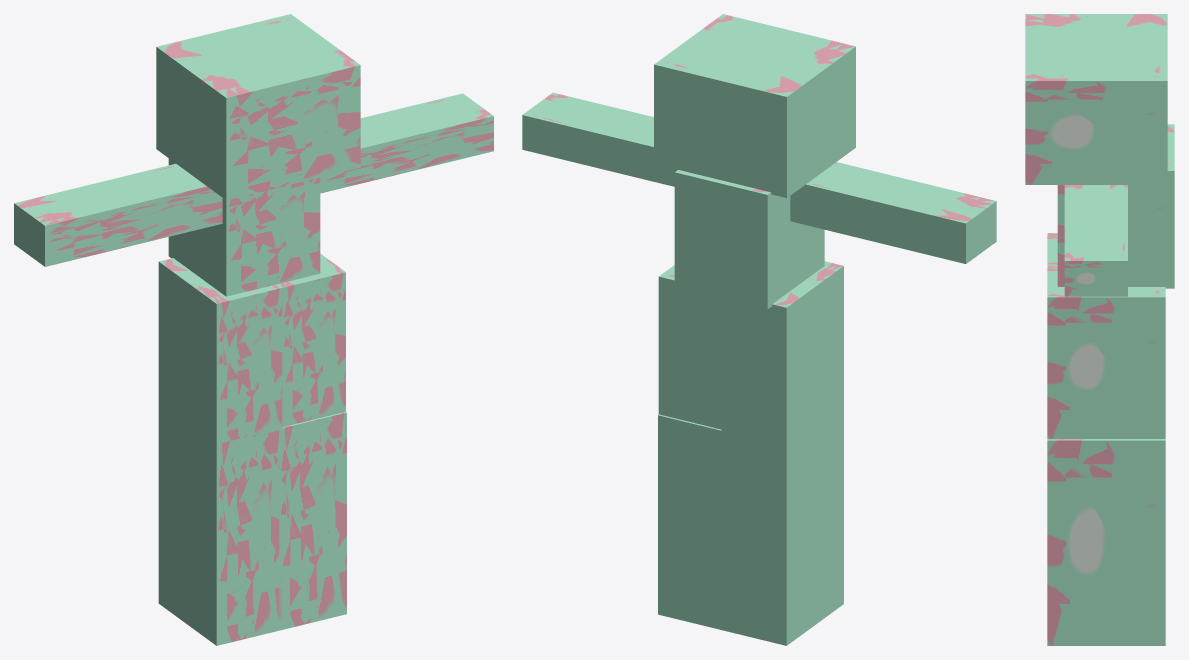
File: woman.obj
The picture shows the model from 3 angles, left to right: view 1: azimuth 30°, elevation 25°; view 2: azimuth 150°, elevation 25°; view 3: azimuth 270°, elevation 25°; orthographic projection. The views are drawn at different scales.
Visible parts, largest first — view 1: !p_b1_$bb_head, !p_leg2_$bb_leg2.1, !p_b1_$bb_leg2, !p_leg1_$bb_leg1.1, !p_b1_$bb_arm2, $bb_b1, !p_b1_$bb_leg1, !p_b1_$bb_arm1; view 2: !p_b1_$bb_head, !p_leg2_$bb_leg2.1, !p_b1_$bb_leg2, $bb_b1, !p_b1_$bb_arm2, !p_leg1_$bb_leg1.1, !p_b1_$bb_leg1, !p_b1_$bb_arm1; view 3: !p_leg1_$bb_leg1.1, !p_b1_$bb_head, !p_b1_$bb_leg1, !p_b1_$bb_arm1, $bb_b1, !p_b1_$bb_leg2.
Part boxes in pixels (bbox=[...]): !p_b1_$bb_head: bbox=[156, 14, 360, 200]; !p_leg2_$bb_leg2.1: bbox=[158, 403, 282, 645]; !p_b1_$bb_leg2: bbox=[158, 258, 282, 444]; !p_leg1_$bb_leg1.1: bbox=[279, 411, 346, 630]; !p_b1_$bb_arm2: bbox=[14, 163, 222, 266]; $bb_b1: bbox=[168, 158, 320, 296]; !p_b1_$bb_leg1: bbox=[277, 253, 345, 426]; !p_b1_$bb_arm1: bbox=[320, 93, 493, 193]; !p_b1_$bb_head: bbox=[654, 14, 855, 197]; !p_leg2_$bb_leg2.1: bbox=[721, 406, 843, 645]; !p_b1_$bb_leg2: bbox=[721, 261, 843, 447]; $bb_b1: bbox=[674, 170, 824, 309]; !p_b1_$bb_arm2: bbox=[790, 162, 996, 263]; !p_leg1_$bb_leg1.1: bbox=[658, 414, 724, 630]; !p_b1_$bb_leg1: bbox=[658, 265, 721, 429]; !p_b1_$bb_arm1: bbox=[522, 92, 675, 186]; !p_leg1_$bb_leg1.1: bbox=[1047, 439, 1165, 645]; !p_b1_$bb_head: bbox=[1025, 14, 1167, 184]; !p_b1_$bb_leg1: bbox=[1047, 265, 1165, 438]; !p_b1_$bb_arm1: bbox=[1064, 185, 1127, 296]; $bb_b1: bbox=[1057, 124, 1174, 288]; !p_b1_$bb_leg2: bbox=[1047, 233, 1057, 265].
Size of what is drawn, in the model's own units: 8.02 by 9.49 by 2.27.
Materials: 6 (6 with a texture image).
